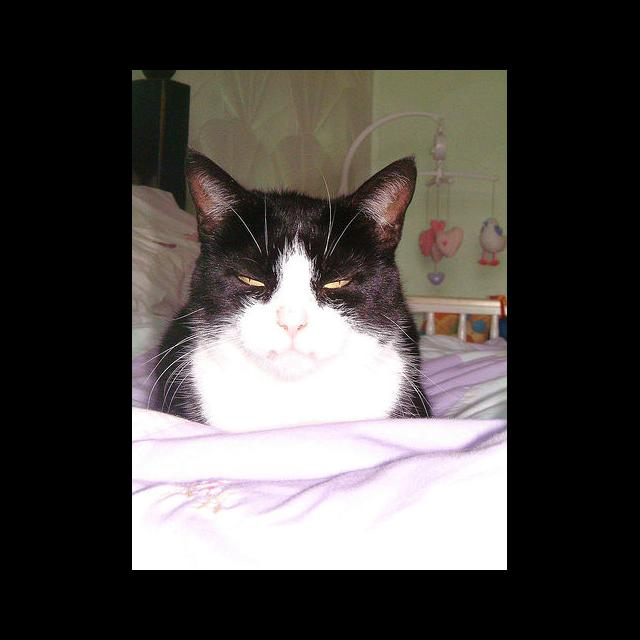animals: (188, 150, 412, 336)
